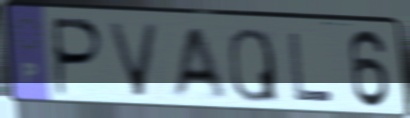6: (347, 28, 392, 111)
A: (166, 25, 230, 101)
L: (285, 30, 336, 105)
P: (52, 15, 107, 101)
Q: (227, 26, 282, 105)
V: (104, 20, 163, 100)
